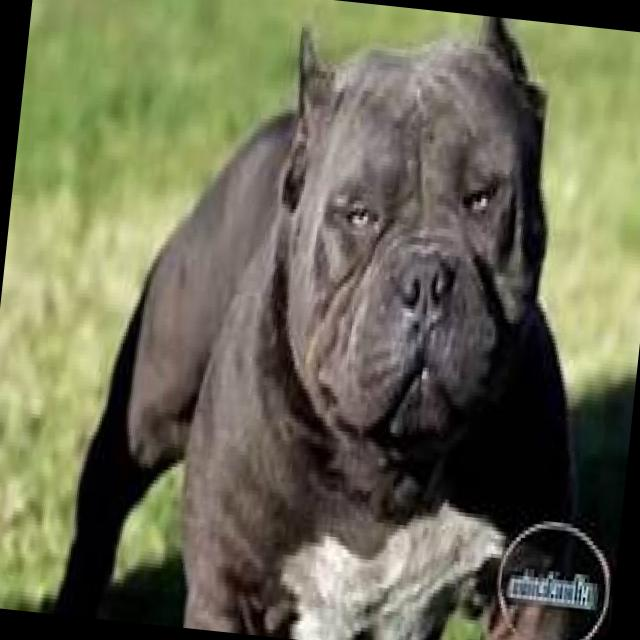dog: (52, 0, 638, 640)
